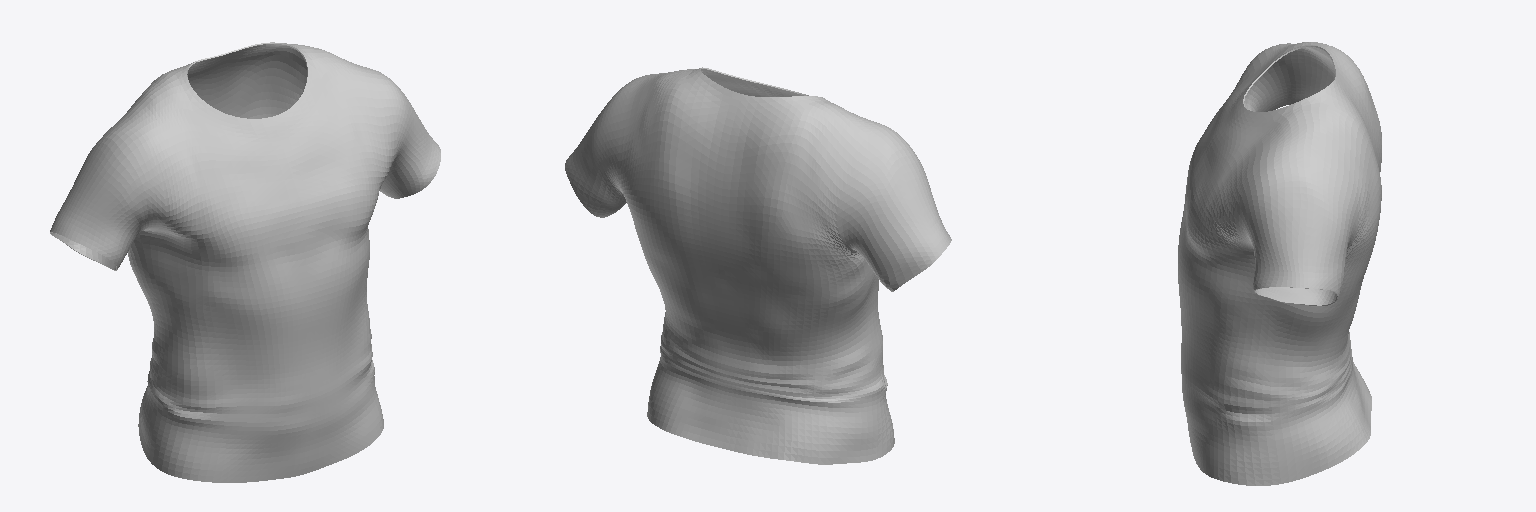
Rendered from new_uvs.obj.
3 views of the same model, side by side, from view 1: azimuth 30°, elevation 25°; view 2: azimuth 150°, elevation 25°; view 3: azimuth 270°, elevation 25° (orthographic).
Visible parts, largest first — view 1: upper_clothing.male_medium_mesomorph; view 2: upper_clothing.male_medium_mesomorph; view 3: upper_clothing.male_medium_mesomorph.
Part boxes in pixels (x1,y1,x2,y2): upper_clothing.male_medium_mesomorph: (50,42,440,482); upper_clothing.male_medium_mesomorph: (565,67,951,464); upper_clothing.male_medium_mesomorph: (1178,42,1381,485).
Size of the model in its own units: 0.6068 by 0.575 by 0.2847.